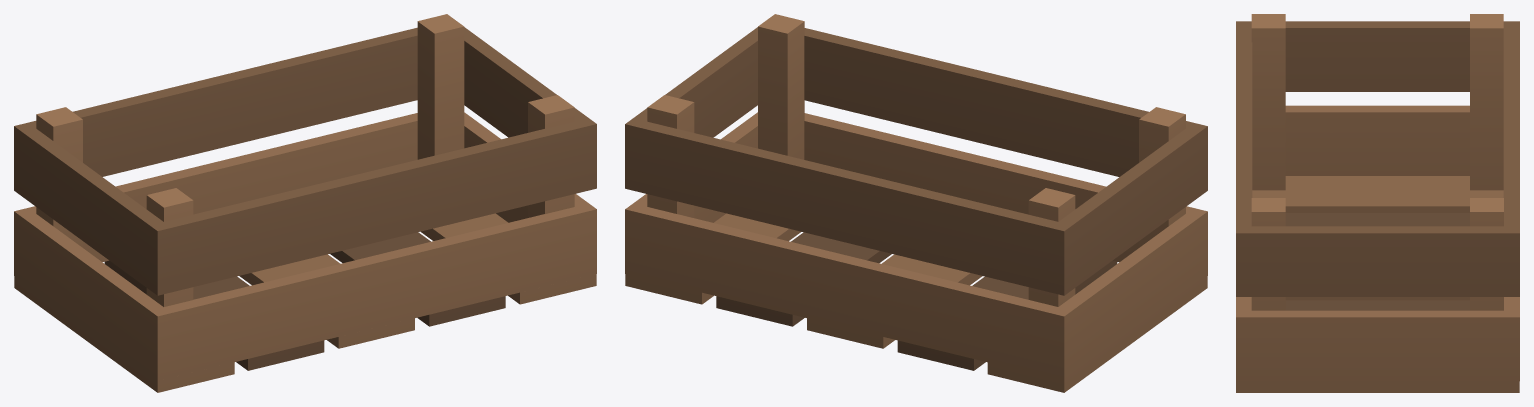
3 renders of one model, left to right at view 1: azimuth 30°, elevation 25°; view 2: azimuth 150°, elevation 25°; view 3: azimuth 270°, elevation 25°, orthographic.
Parts seen in each view (by area): view 1: box; view 2: box; view 3: box.
Part boxes in pixels (x1,y1,x2,y2): box: (14,14,596,392); box: (625,14,1207,392); box: (1236,14,1519,392).
Bounding box in the file's own units: 0.8944 × 0.3426 × 0.5065.
1 material, 1 textured.
